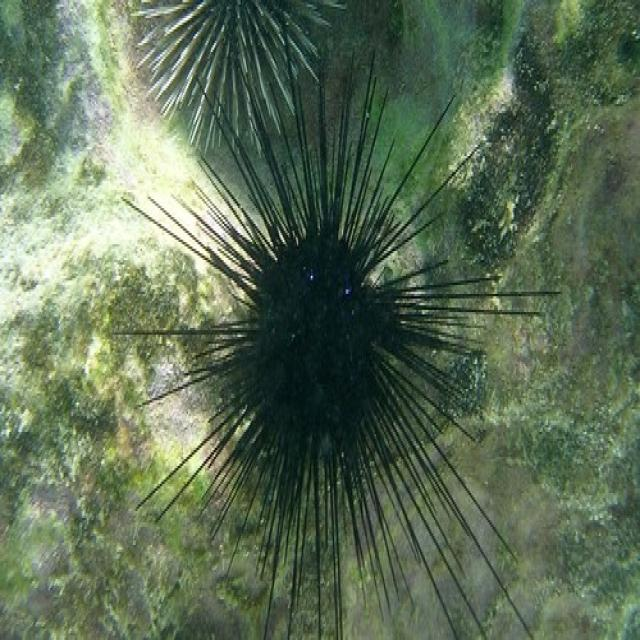Urchin: (119, 20, 566, 618)
